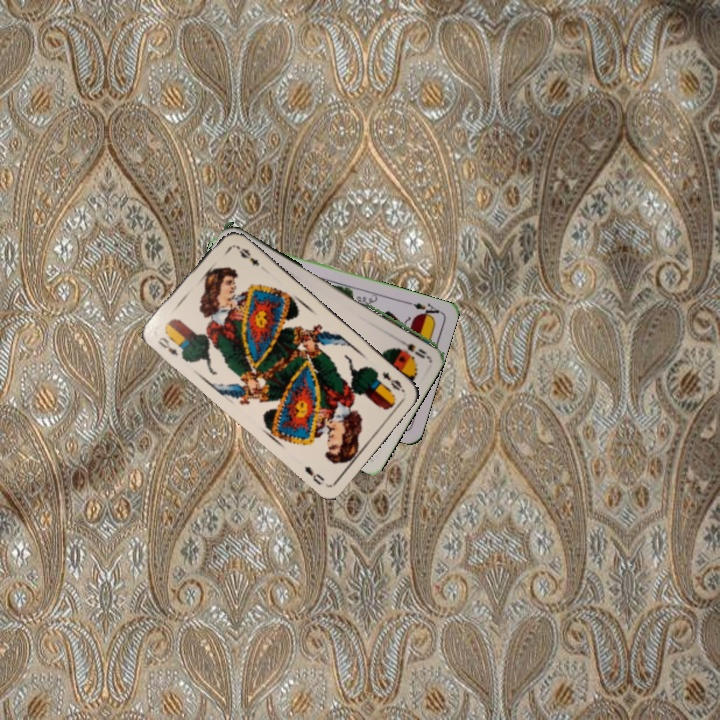EA: (403, 297, 443, 321)
EO: (378, 367, 408, 395), (154, 333, 181, 358)
SO: (392, 334, 430, 361)
